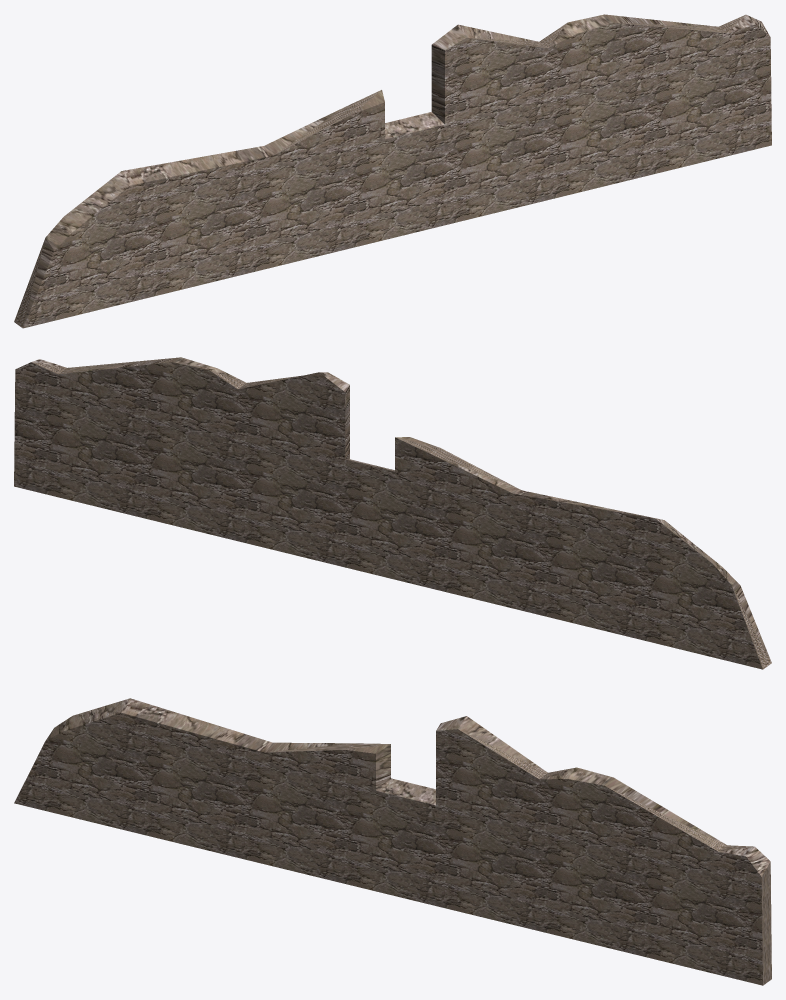
Rendered from stnwal01.glb.
3 renders of one model, top to bottom at view 1: azimuth 30°, elevation 25°; view 2: azimuth 150°, elevation 25°; view 3: azimuth 330°, elevation 25°, orthographic.
Visible parts, largest first — view 1: _stnwal01; view 2: _stnwal01; view 3: _stnwal01.
Boxes of the visible parts, <box> form: _stnwal01: <box>14,14,771,328</box>; _stnwal01: <box>14,357,771,669</box>; _stnwal01: <box>14,698,771,985</box>.
Size of the model in its own units: 15.99 by 3.86 by 0.33.
Materials: 1 (1 with a texture image).
